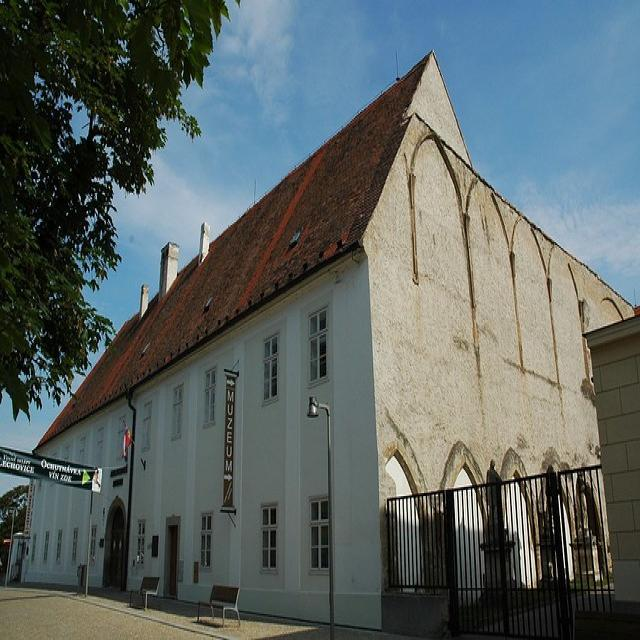Normal_building: (30, 46, 640, 629)
